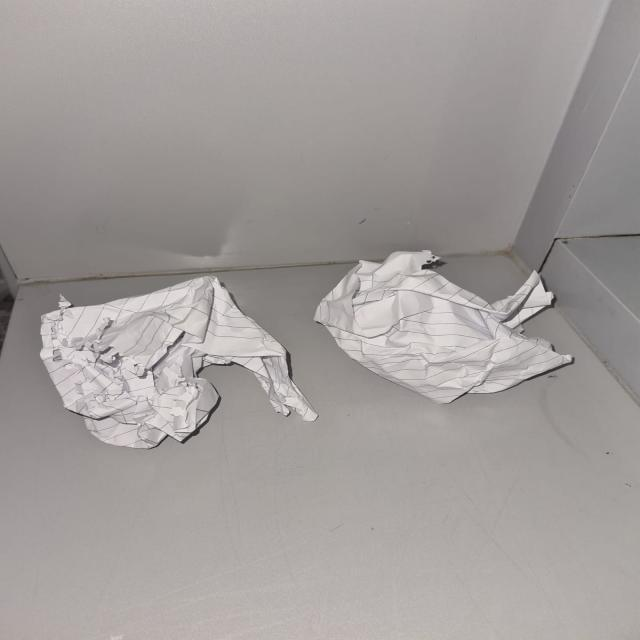Paper: (42, 273, 318, 447), (313, 250, 575, 398)
